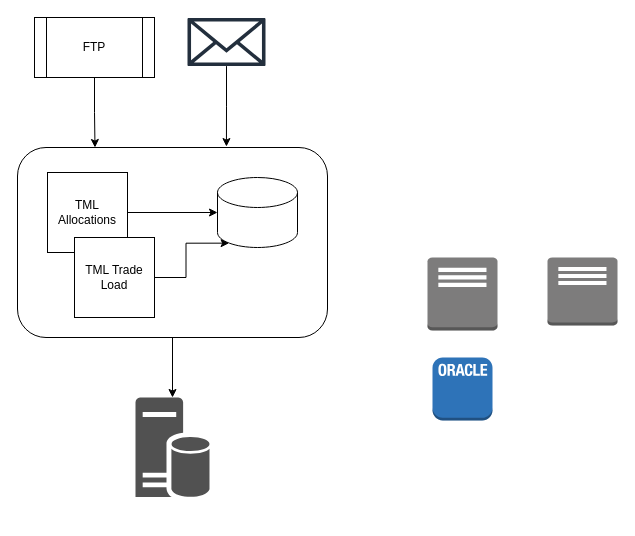
This 635x536 diagram has some shape labels left out. The shapes that lost their labels are listed below. From the top down, each one's centre as x and y in pixels, then its label:
At point (257, 212): "DB".
At point (172, 447): "GMI".
